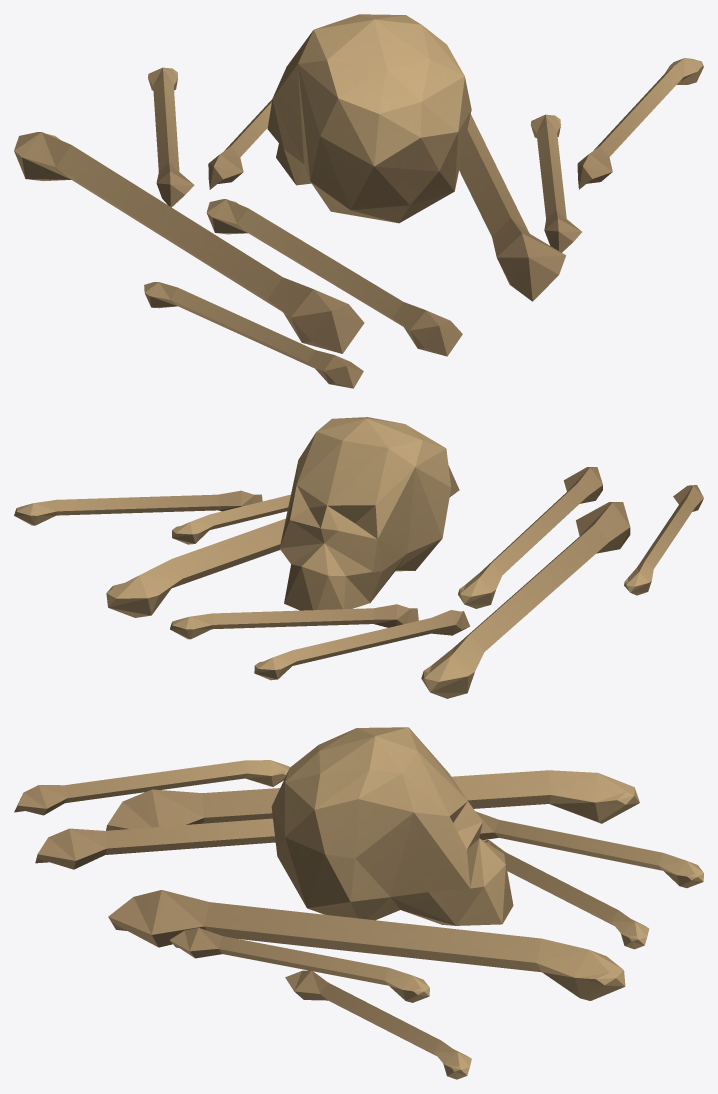
Rendered from Skull_3B.fbx.
3 views of the same model, one above another, from view 1: azimuth 30°, elevation 25°; view 2: azimuth 150°, elevation 25°; view 3: azimuth 270°, elevation 25° (orthographic). The views are drawn at different scales.
Visible parts, largest first — view 1: polySurface1326; view 2: polySurface1326; view 3: polySurface1326.
Part boxes in pixels (<box>): polySurface1326: <box>14,14,703,388</box>; polySurface1326: <box>14,417,703,698</box>; polySurface1326: <box>14,727,703,1079</box>.
Size of the model in its own units: 2.32 by 0.6612 by 2.2.
